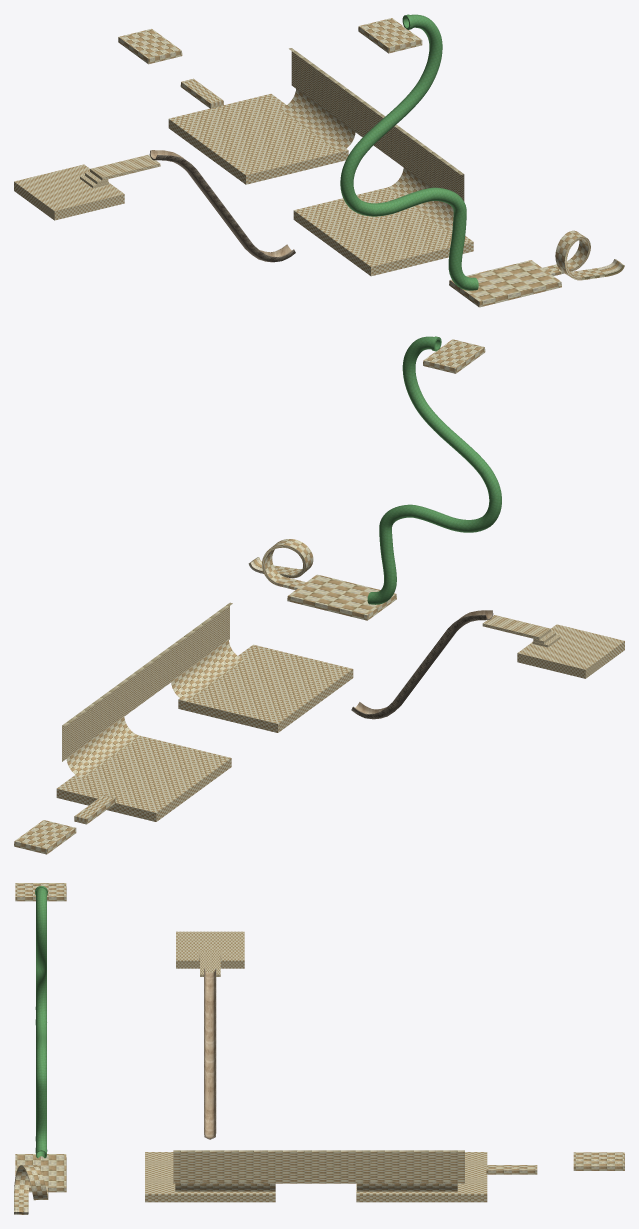
File: Tutorial5.fbx
The picture shows the model from 3 angles, top to bottom: view 1: azimuth 30°, elevation 25°; view 2: azimuth 150°, elevation 25°; view 3: azimuth 270°, elevation 25°; orthographic projection. The views are drawn at different scales.
Parts seen in each view (by area): view 1: Cube.006, Cube.005, PipeOutside, Cube.007, Cube, Cube.011, Cylinder.001, Spiral, RampBark, Cube.009, Cube.010, Cylinder (+2 smaller); view 2: Cube.005, Cube.006, Cube.007, PipeOutside, Cube, Cube.011, Cylinder.001, Cylinder, Spiral, RampBark, Cube.009, Cube.010 (+1 smaller); view 3: Cube.007, PipeOutside, Cube.005, Cube.006, Cube, Ramp, Cube.011, Spiral, Cylinder.001, Cylinder, Cube.009, Cube.010 (+3 smaller).
Boxes of the visible parts, x1,y1,x2,y2 form: Cube.006: (168,94,348,184); Cube.005: (293,187,473,276); PipeOutside: (340,14,478,290); Cube.007: (289,48,464,201); Cube: (14,164,124,220); Cube.011: (449,260,561,307); Cylinder.001: (279,88,355,152); Spiral: (542,230,624,280); RampBark: (149,150,295,262); Cube.009: (118,29,182,64); Cube.010: (358,18,422,53); Cylinder: (387,167,453,230); Cube.005: (178,644,353,732); Cube.006: (56,735,231,821); Cube.007: (62,602,232,761); PipeOutside: (367,336,501,604); Cube: (517,624,624,678); Cube.011: (287,574,396,620); Cylinder.001: (66,716,139,778); Cylinder: (171,639,244,701); Spiral: (248,539,313,589); RampBark: (351,610,493,719); Cube.009: (14,820,76,854); Cube.010: (423,339,485,373); Cube.007: (173,1150,464,1183); PipeOutside: (35,888,47,1158); Cube.005: (145,1152,275,1202); Cube.006: (356,1152,487,1202); Cube: (176,931,244,968); Ramp: (204,969,215,1137); Cube.011: (15,1154,66,1192); Spiral: (14,1164,48,1214); Cylinder.001: (357,1182,457,1191); Cylinder: (175,1182,275,1191); Cube.009: (573,1152,624,1170); Cube.010: (15,883,66,901).
Bounding box in the file's own units: 630033 × 395513 × 830888.
Materials: 4 (4 with a texture image).
